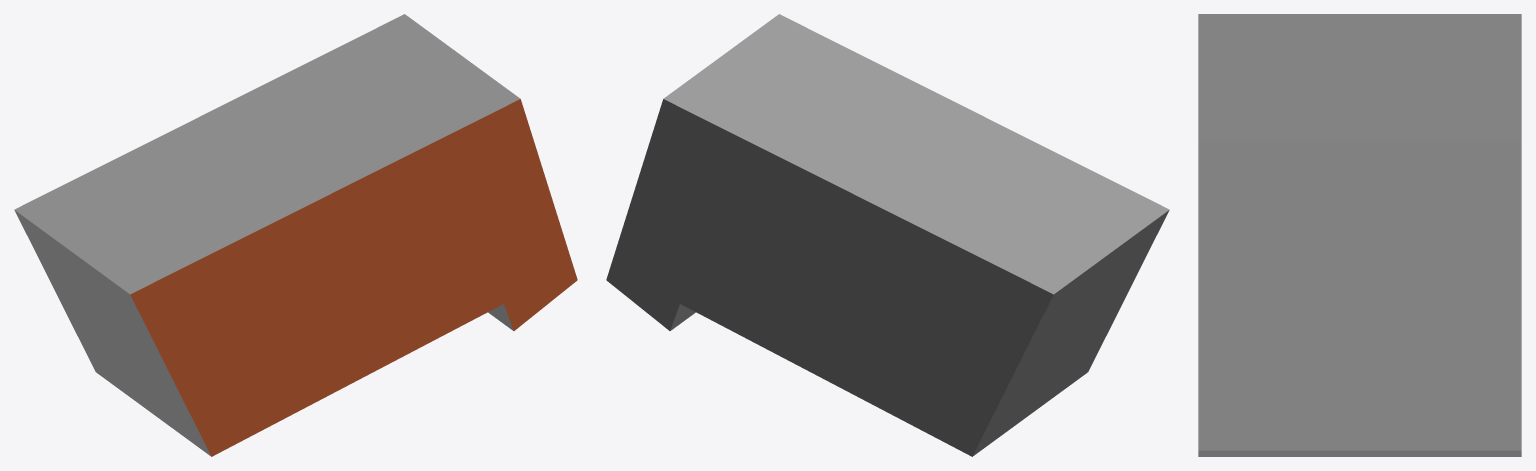
File: construction_6105_assumed_A_Casa_h6m.obj
3 renders of one model, left to right at view 1: azimuth 30°, elevation 25°; view 2: azimuth 150°, elevation 25°; view 3: azimuth 270°, elevation 25°, orthographic. The views are drawn at different scales.
Parts seen in each view (by area): view 1: construction_6105_assumed_A_Casa; view 2: construction_6105_assumed_A_Casa; view 3: construction_6105_assumed_A_Casa.
Boxes of the visible parts, x1,y1,x2,y2 form: construction_6105_assumed_A_Casa: [14, 14, 577, 456]; construction_6105_assumed_A_Casa: [606, 14, 1169, 456]; construction_6105_assumed_A_Casa: [1198, 14, 1521, 456].
Bounding box in the file's own units: 13.37 × 8.07 × 6.
